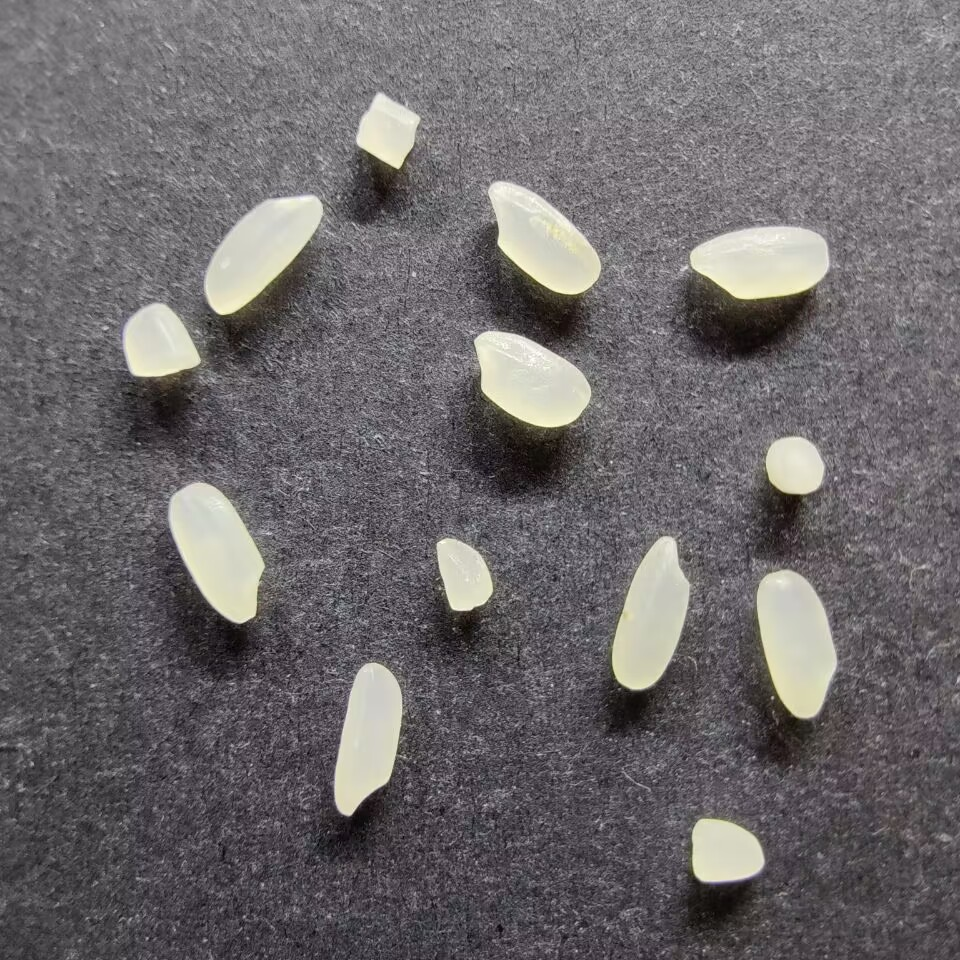broken: (122, 303, 201, 377), (689, 816, 765, 885), (355, 93, 421, 169), (435, 536, 493, 612), (766, 435, 824, 494)
rice: (203, 193, 322, 315), (167, 481, 263, 624), (487, 180, 602, 295), (755, 569, 838, 719), (610, 535, 690, 690), (473, 329, 591, 428), (333, 662, 403, 817), (688, 226, 830, 299)
